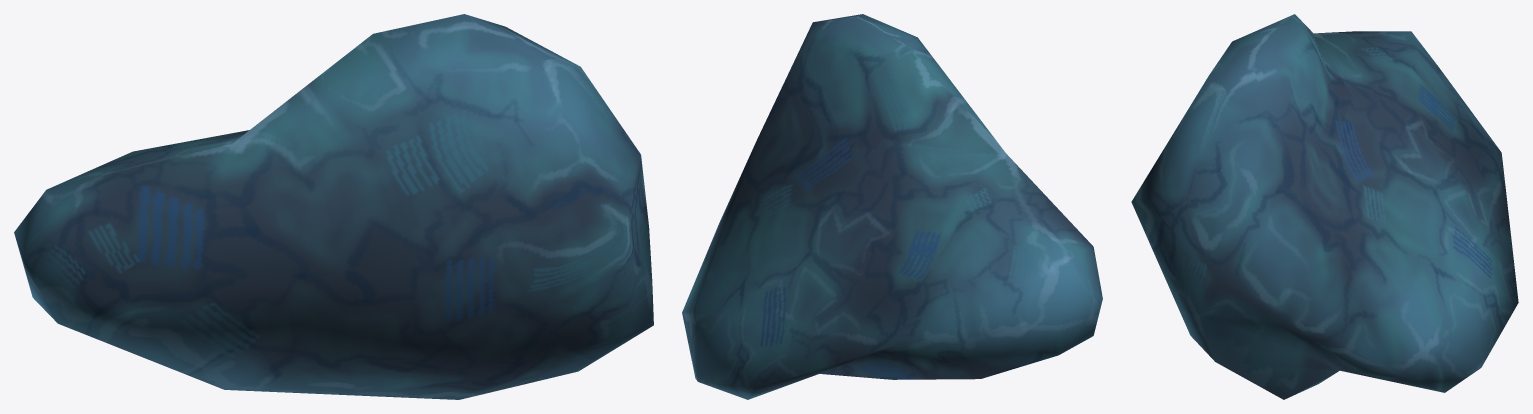
The model's file is Rock.001.fbx.
The picture shows the model from 3 angles, left to right: view 1: azimuth 30°, elevation 25°; view 2: azimuth 150°, elevation 25°; view 3: azimuth 270°, elevation 25°; orthographic projection. The views are drawn at different scales.
Visible parts, largest first — view 1: rock.001; view 2: rock.001; view 3: rock.001.
Part boxes in pixels (bbox=[...]): rock.001: bbox=[14, 14, 653, 399]; rock.001: bbox=[682, 14, 1102, 399]; rock.001: bbox=[1131, 14, 1518, 399].
Size of the model in its own units: 137 by 102 by 107.
